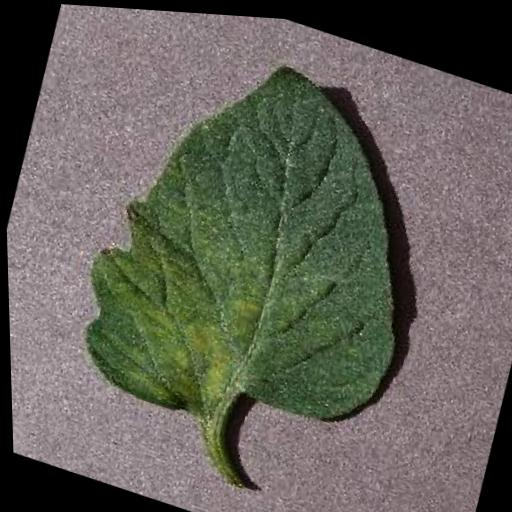Spider Mites: (54, 12, 457, 470)
